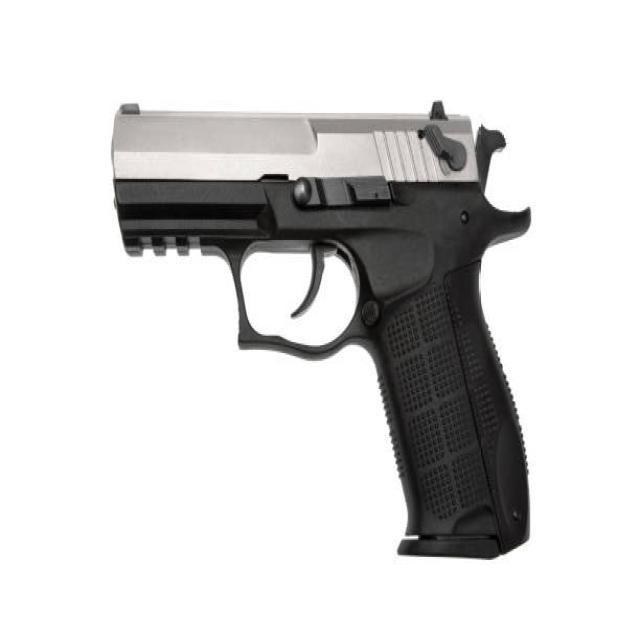pistol: (107, 97, 541, 570)
